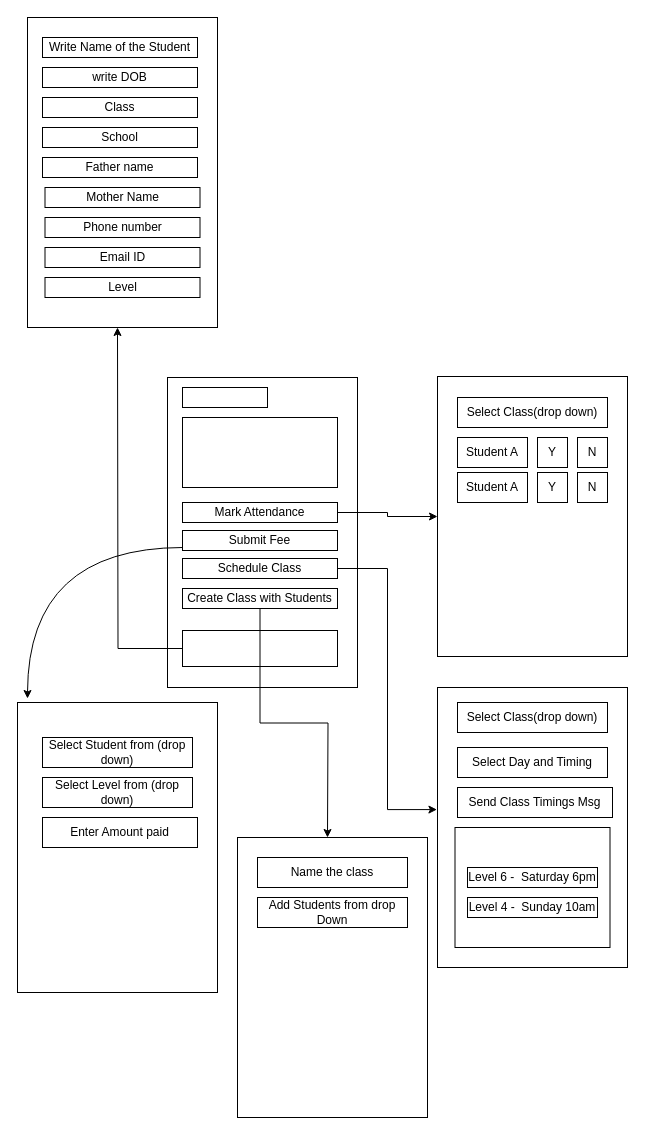
Some shapes in this 645 by 1135 pixel diagram are drawn without their labels. The shapes that lost their labels are listed below. From the top down, each one's box as (x1, y1, x2, y2) in pixels, then its label:
(182, 386, 268, 408): Date & Time
(182, 416, 338, 488): Classes for today: Level 1 - 10 am Kakatiya Level 2- 12 pm Kakatiya
(182, 630, 338, 666): Create/Update Student Details
(454, 826, 610, 948): List down all the scheduled class below as buttons
